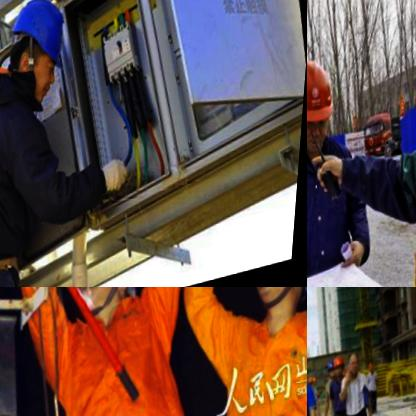helmet: (0, 0, 84, 103), (380, 0, 416, 198), (307, 48, 348, 162), (58, 287, 144, 338), (240, 287, 307, 338), (333, 357, 351, 386), (325, 362, 340, 388)
